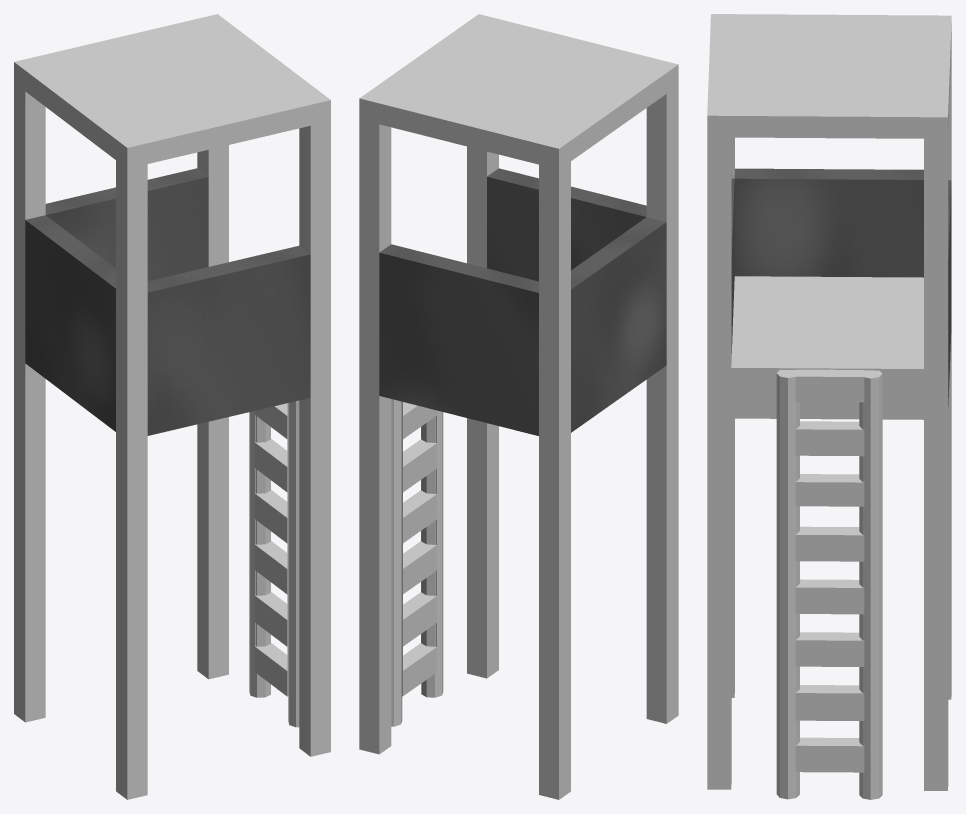
File: tower.glb
3 renders of one model, left to right at view 1: azimuth 30°, elevation 25°; view 2: azimuth 150°, elevation 25°; view 3: azimuth 270°, elevation 25°, orthographic. The views are drawn at different scales.
Visible parts, largest first — view 1: watchtower; view 2: watchtower; view 3: watchtower.
Boxes of the visible parts, box(x1,y1,x2,y2) form: watchtower: box(14, 14, 330, 799); watchtower: box(359, 14, 678, 799); watchtower: box(707, 14, 951, 799).
Bounding box in the file's own units: 2.18 × 6.19 × 2.03.
2 materials, 1 textured.
